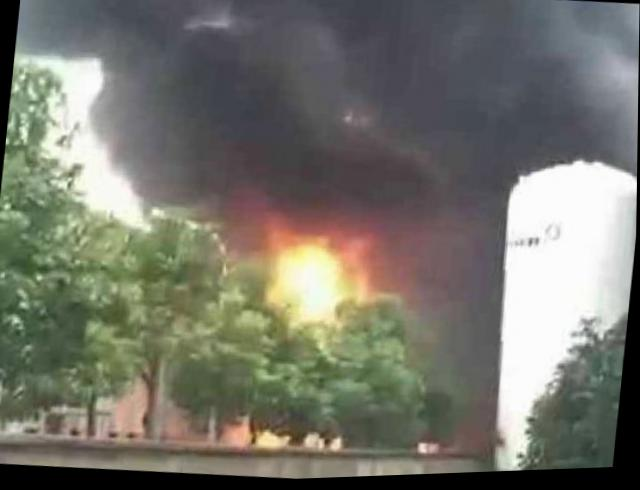fire: (262, 222, 364, 327)
